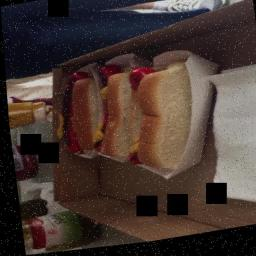hotdog: (114, 48, 222, 198), (80, 57, 139, 167), (47, 66, 93, 170)
